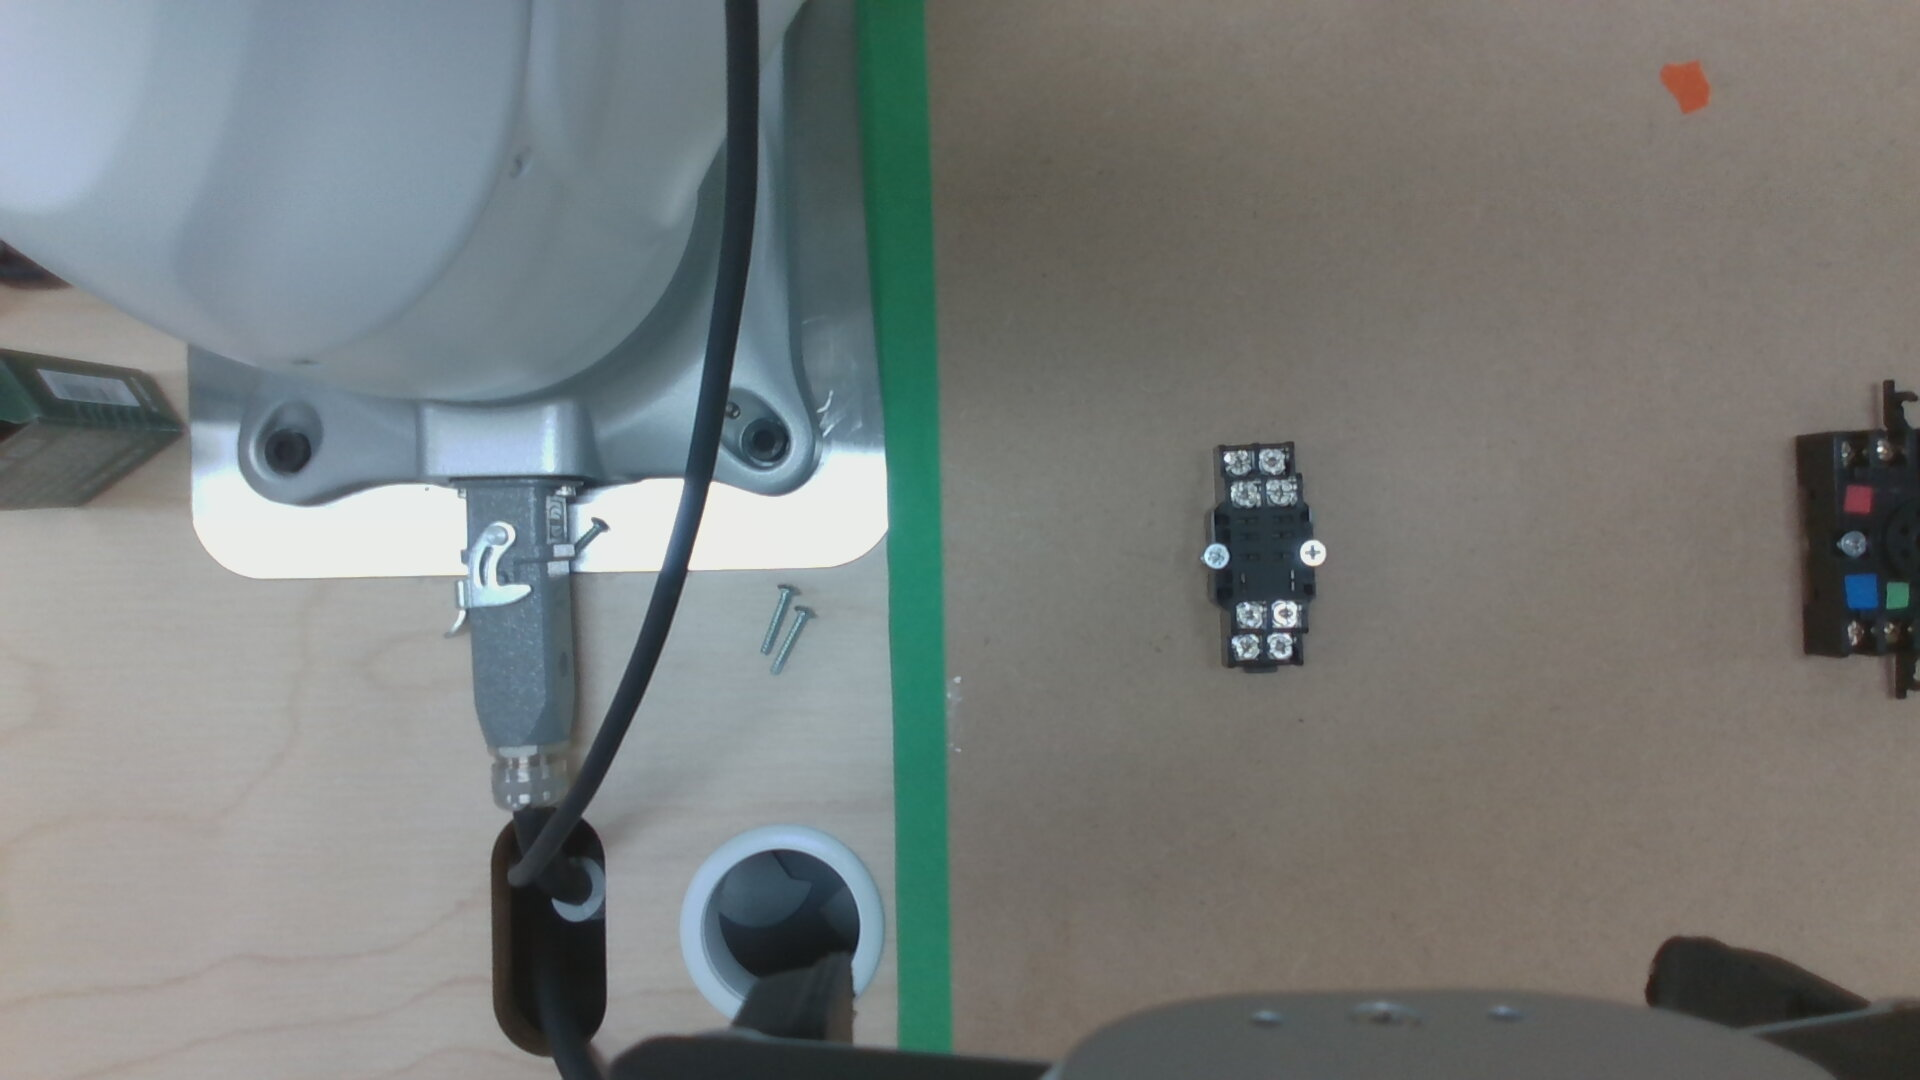relay 3: (1259, 448, 1287, 473)
relay 4: (1222, 454, 1253, 475)
relay 5: (1269, 636, 1294, 659)
relay 6: (1233, 636, 1261, 661)
relay 7: (1273, 601, 1299, 626)
relay 8: (1237, 603, 1262, 628)
